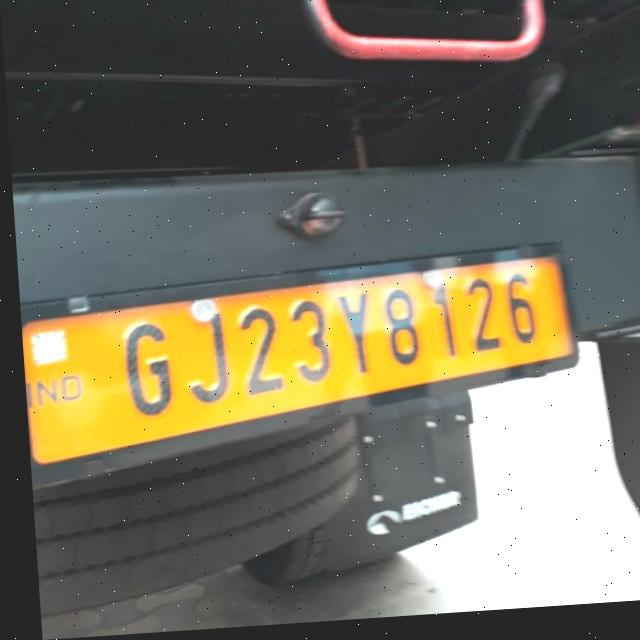plate: (16, 252, 574, 488)
